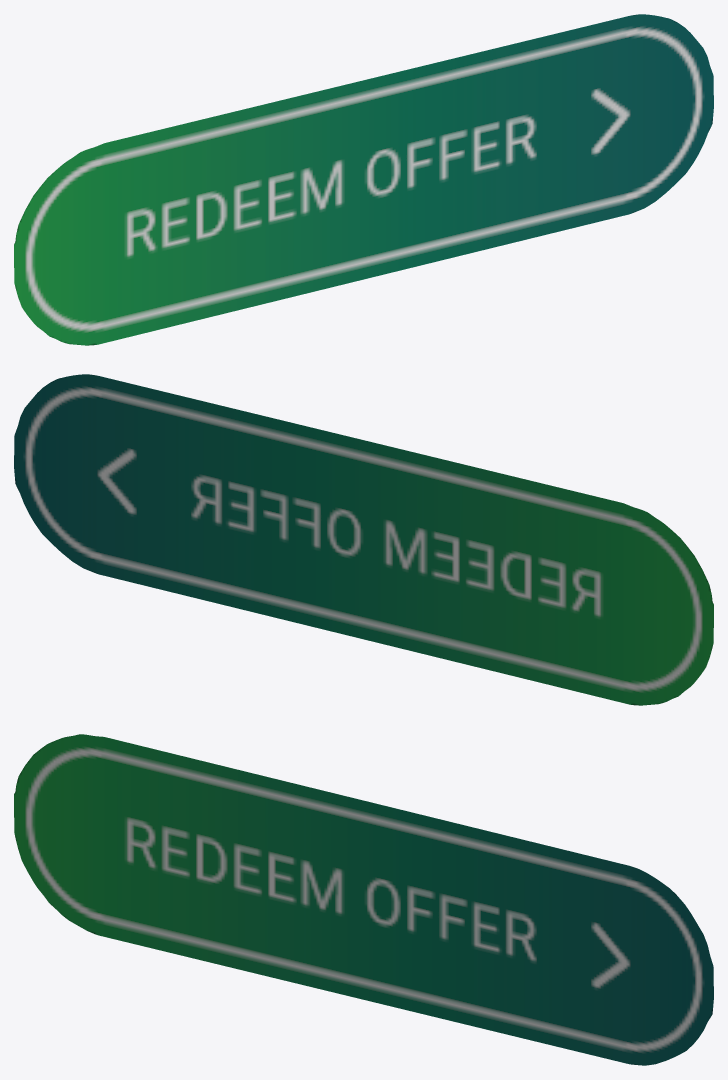
Rendered from button.gltf.
3 renders of one model, top to bottom at view 1: azimuth 30°, elevation 25°; view 2: azimuth 150°, elevation 25°; view 3: azimuth 330°, elevation 25°, orthographic.
Parts seen in each view (by area): view 1: Plane; view 2: Plane; view 3: Plane.
Boxes of the visible parts, x1=… form: Plane: x1=14, y1=14, x2=713, y2=345; Plane: x1=14, y1=374, x2=713, y2=705; Plane: x1=14, y1=734, x2=713, y2=1065.
Bounding box in the file's own units: 0.2721 × 0.0743 × 1.65e-17.
Materials: 1 (1 with a texture image).
